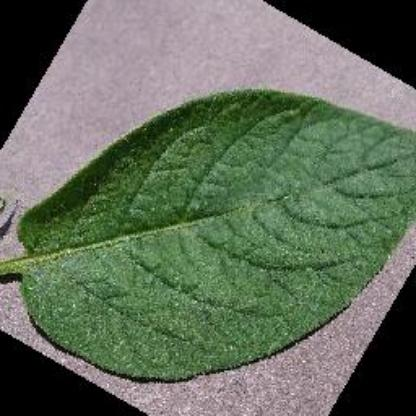Healthy-plant: (0, 80, 416, 387)
